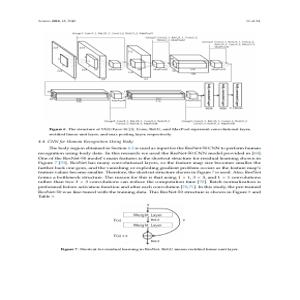diagram: (31, 28, 260, 127), (104, 203, 192, 248)
text: (31, 128, 262, 201)
